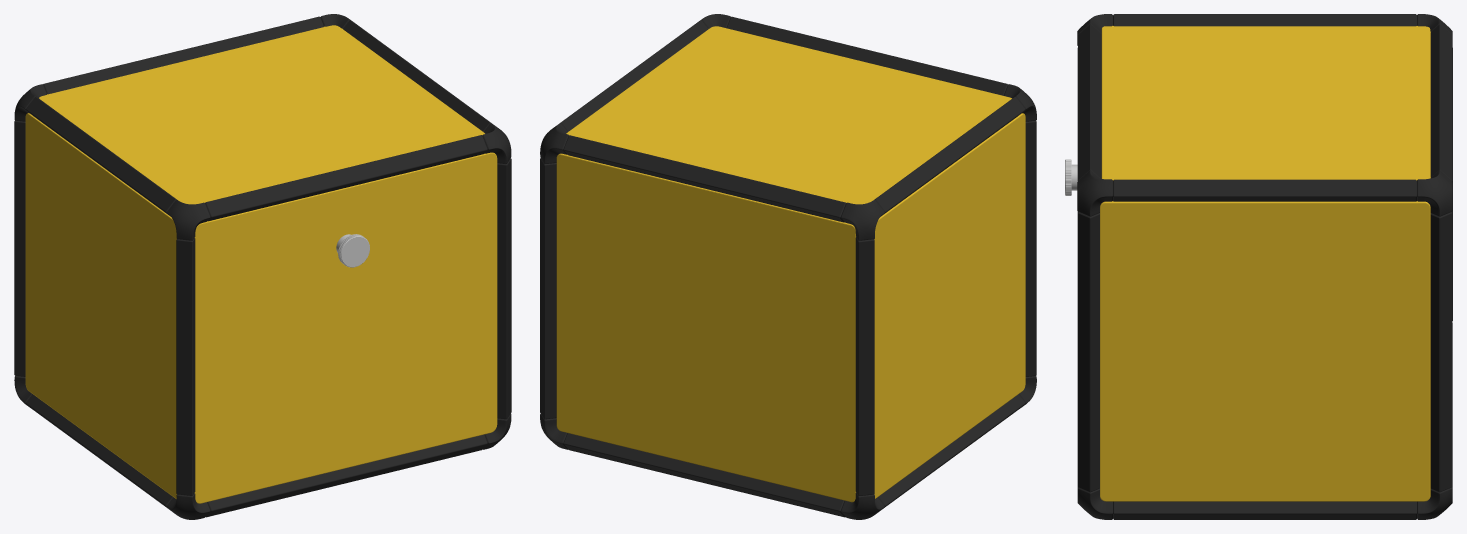
The picture shows the model from 3 angles, left to right: view 1: azimuth 30°, elevation 25°; view 2: azimuth 150°, elevation 25°; view 3: azimuth 270°, elevation 25°; orthographic projection. The views are drawn at different scales.
Visible parts, largest first — view 1: 374x329x329; view 2: 374x329x329; view 3: 374x329x329.
Part boxes in pixels (x1=…): 374x329x329: x1=14, y1=14, x2=511, y2=519; 374x329x329: x1=540, y1=14, x2=1036, y2=519; 374x329x329: x1=1065, y1=14, x2=1452, y2=519.
Bounding box in the file's own units: 0.4517 × 0.4066 × 0.4196.
